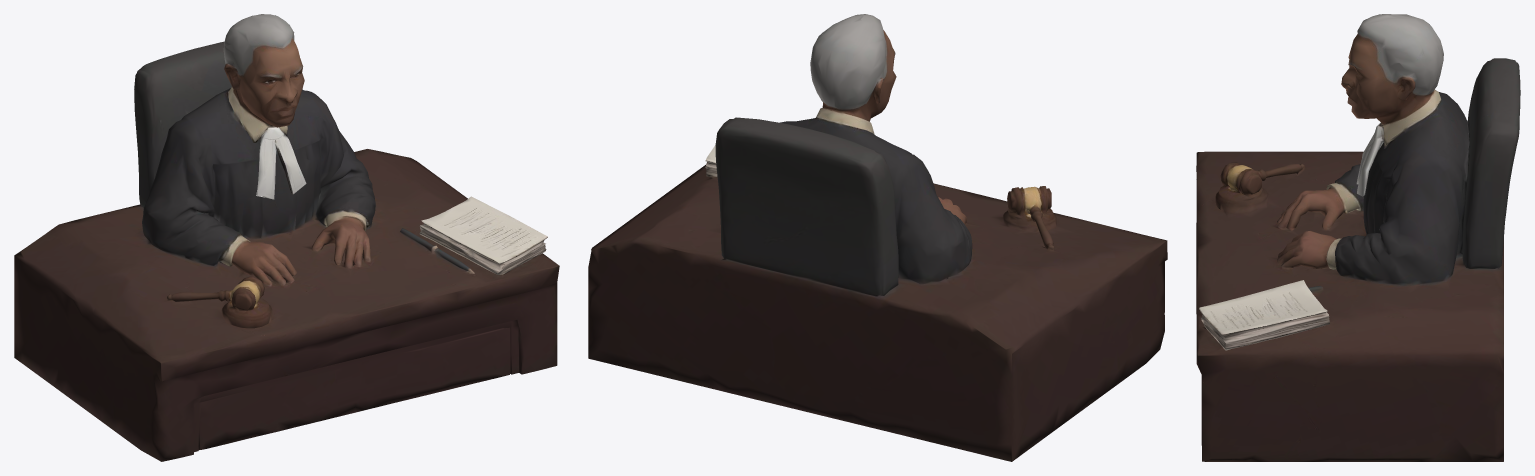
The model's file is judge_1.glb.
3 views of the same model, side by side, from view 1: azimuth 30°, elevation 25°; view 2: azimuth 150°, elevation 25°; view 3: azimuth 270°, elevation 25° (orthographic). The views are drawn at different scales.
Visible parts, largest first — view 1: tripo_node_f6e5f50f-303e-403e-bd49-2bb3bd58e278; view 2: tripo_node_f6e5f50f-303e-403e-bd49-2bb3bd58e278; view 3: tripo_node_f6e5f50f-303e-403e-bd49-2bb3bd58e278.
Part boxes in pixels (x1=…): tripo_node_f6e5f50f-303e-403e-bd49-2bb3bd58e278: x1=14, y1=14, x2=559, y2=461; tripo_node_f6e5f50f-303e-403e-bd49-2bb3bd58e278: x1=588, y1=14, x2=1167, y2=461; tripo_node_f6e5f50f-303e-403e-bd49-2bb3bd58e278: x1=1196, y1=14, x2=1520, y2=461.
Size of the model in its own units: 1 by 0.7872 by 0.6715.
1 material, 1 textured.
